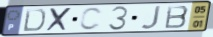3: (106, 5, 130, 32)
B: (163, 5, 191, 30)
C: (78, 6, 105, 32)
D: (21, 8, 47, 33)
J: (139, 5, 163, 31)
X: (45, 7, 74, 33)
